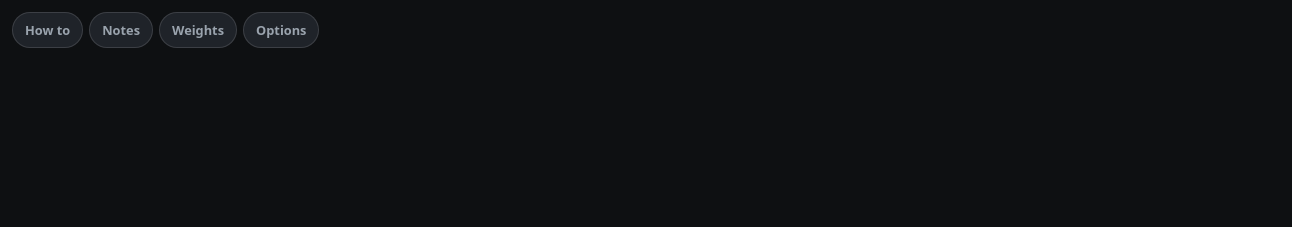
Test: the Plates panel › says a dumbbell or kettlebell load is per hand
The width and height of the screenshot is (1292, 227).
Click the tab with test id "plates-tab": point(198, 30) [159,12,237,48]
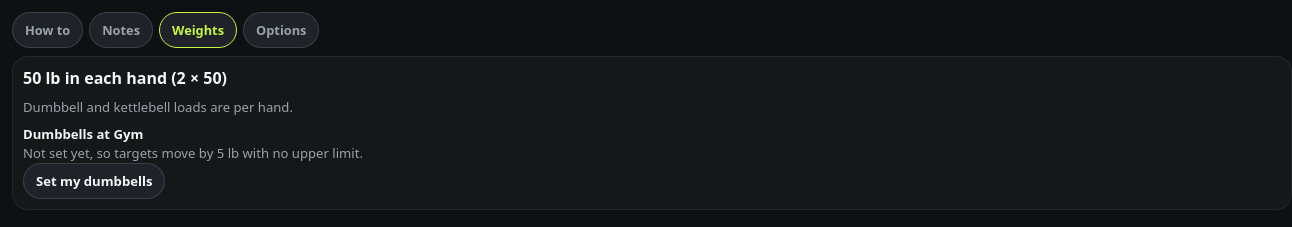
Check: the panel with test id "plate-math" shows "50 lb in each hand (2 × 50)", box [23,67,227,89]
Check: the panel with test id "plate-math" shows "Dumbbell and kettlebell loads are per hand.", box [23,98,293,116]
